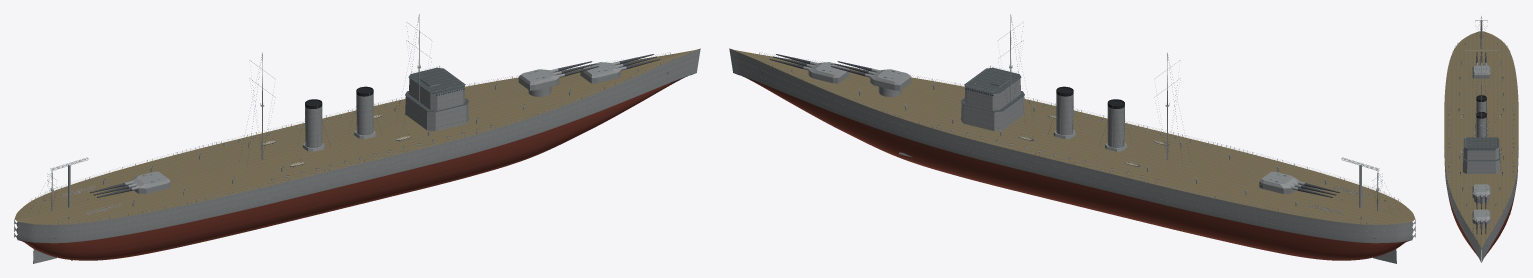
File: tillman_bb29.glb
3 renders of one model, left to right at view 1: azimuth 30°, elevation 25°; view 2: azimuth 150°, elevation 25°; view 3: azimuth 270°, elevation 25°, orthographic. The views are drawn at different scales.
Visible parts, largest first — view 1: Tillman class; view 2: Tillman class; view 3: Tillman class.
Boxes of the visible parts, box(x1,y1,x2,y2) form: Tillman class: box(14, 14, 700, 263); Tillman class: box(729, 14, 1415, 263); Tillman class: box(1444, 16, 1518, 262).
Size of the model in its own units: 315 by 69.55 by 44.59.
9 materials, 8 textured.
